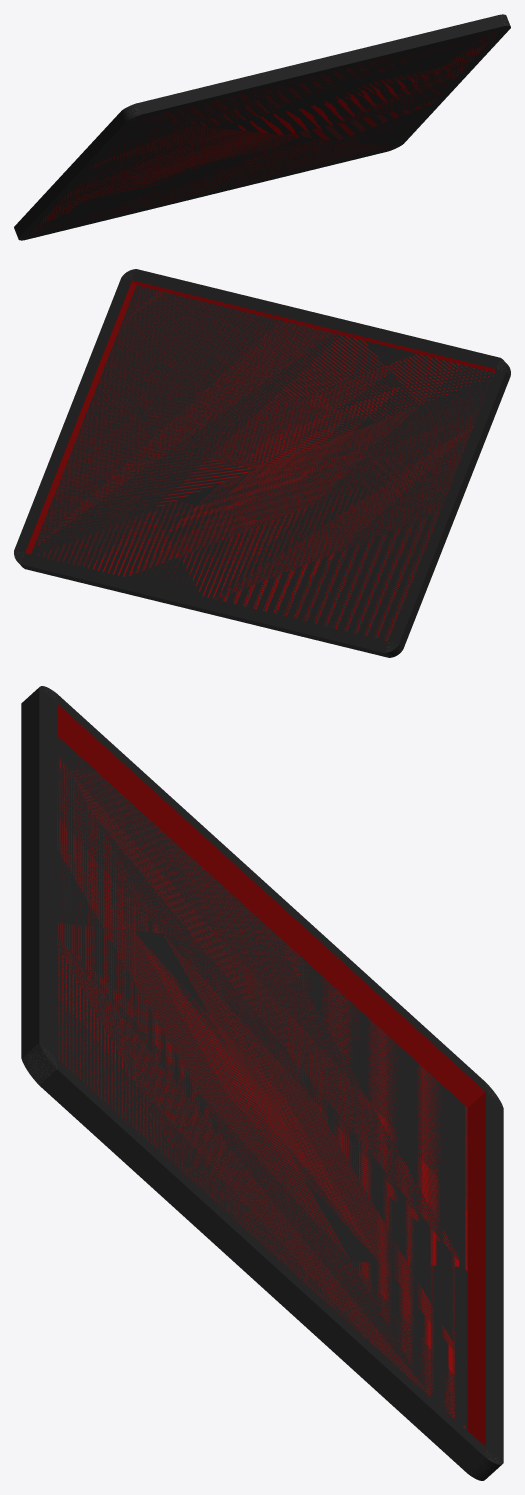
Rendered from original-10.obj.
3 renders of one model, top to bottom at view 1: azimuth 30°, elevation 25°; view 2: azimuth 150°, elevation 25°; view 3: azimuth 270°, elevation 25°, orthographic. The views are drawn at different scales.
Parts seen in each view (by area): view 1: mesh114/mesh114-geometry#mesh114-geometry; view 2: mesh114/mesh114-geometry#mesh114-geometry; view 3: mesh114/mesh114-geometry#mesh114-geometry.
Boxes of the visible parts, x1=… form: mesh114/mesh114-geometry#mesh114-geometry: x1=14, y1=14, x2=510, y2=240; mesh114/mesh114-geometry#mesh114-geometry: x1=14, y1=269, x2=510, y2=657; mesh114/mesh114-geometry#mesh114-geometry: x1=21, y1=686, x2=503, y2=1480.
Bounding box in the file's own units: 1.41 × 0.7637 × 0.7637.
